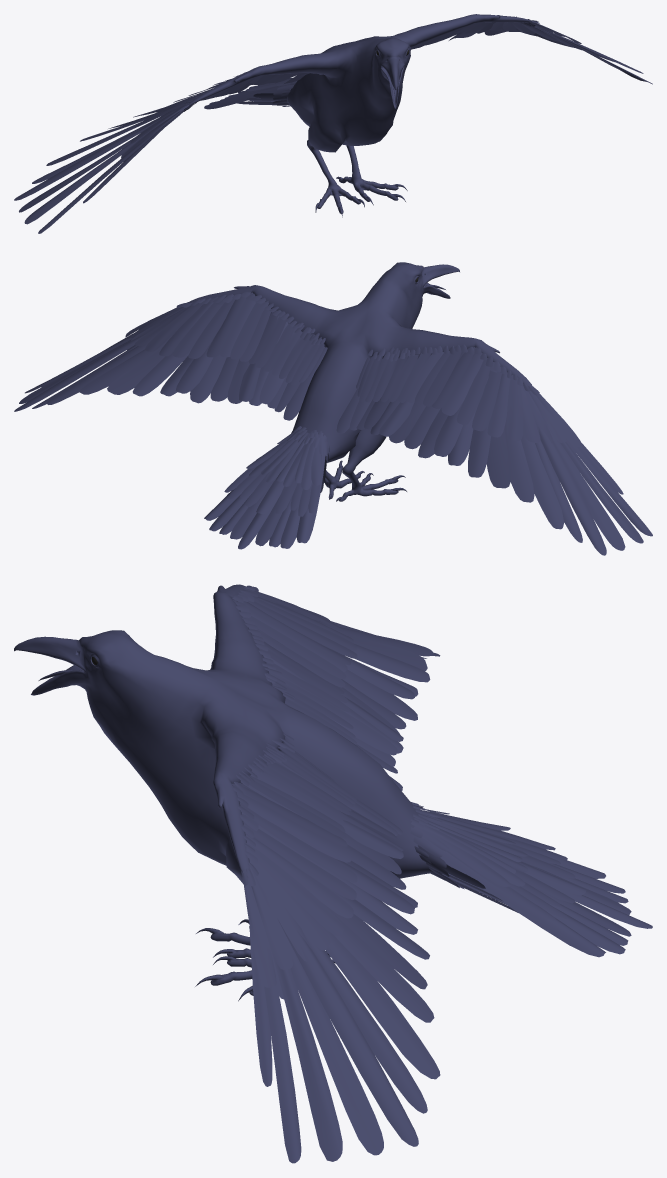
Rendered from raven.fbx.
3 renders of one model, top to bottom at view 1: azimuth 30°, elevation 25°; view 2: azimuth 150°, elevation 25°; view 3: azimuth 270°, elevation 25°, orthographic. The views are drawn at different scales.
Visible parts, largest first — view 1: Raven; view 2: Raven; view 3: Raven.
Boxes of the visible parts, <box> form: Raven: <box>14,14,652,233</box>; Raven: <box>14,262,652,555</box>; Raven: <box>14,584,652,1163</box>.
Bounding box in the file's own units: 7.3 × 2.16 × 3.85.
